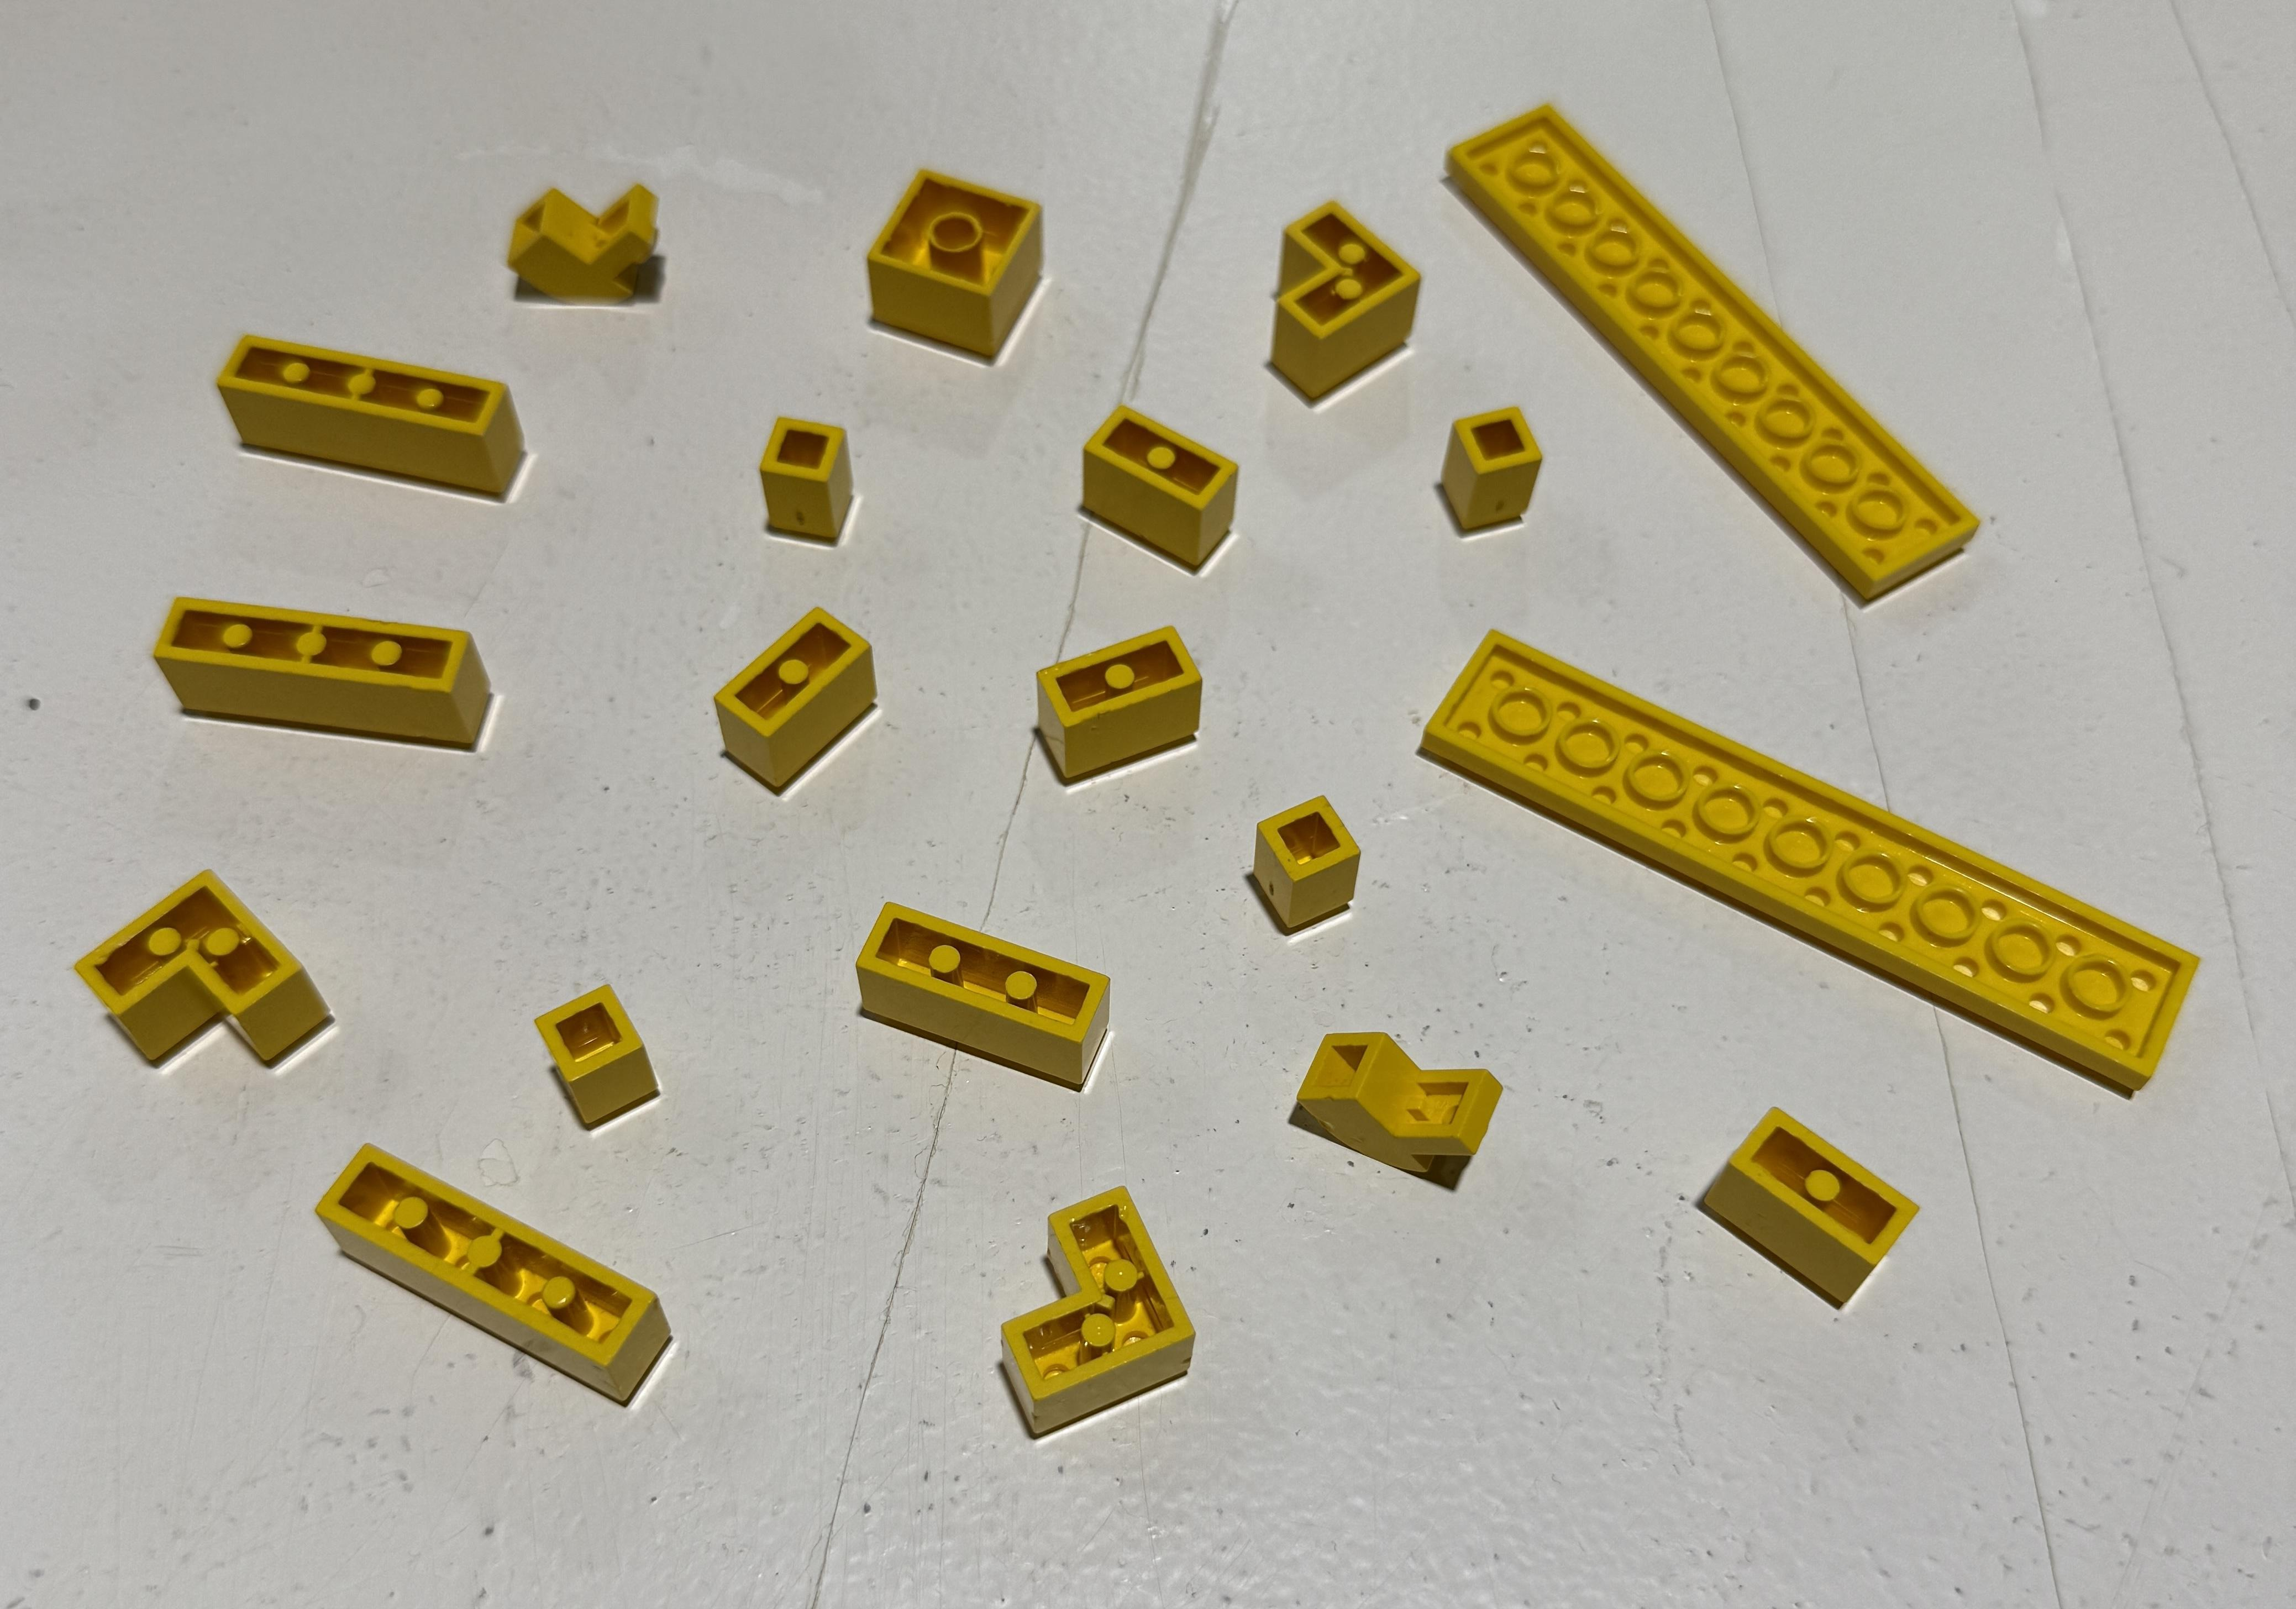brick_1x1: (522, 960, 689, 1148), (1415, 379, 1556, 562), (1227, 771, 1382, 935), (748, 391, 874, 560)
brick_1x2: (1682, 1070, 1980, 1352), (672, 597, 912, 834), (1050, 391, 1244, 585), (1022, 611, 1216, 801)
brick_1x3: (823, 871, 1146, 1127)
brick_1x4: (274, 1117, 708, 1417), (127, 571, 522, 785), (183, 305, 567, 518)
brick_2x2: (851, 147, 1059, 373)
